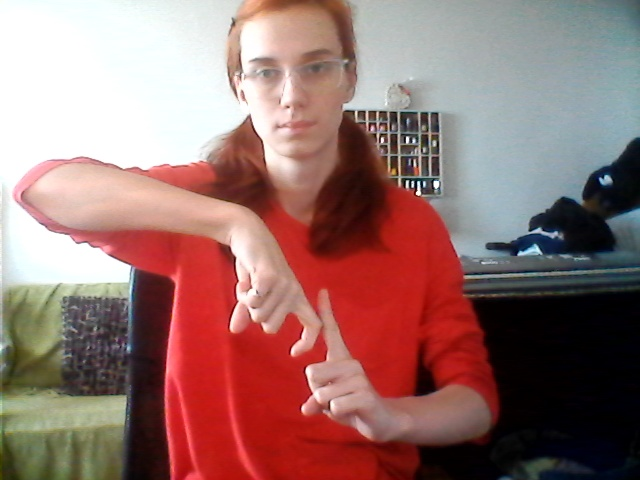k: (201, 254, 392, 448)
